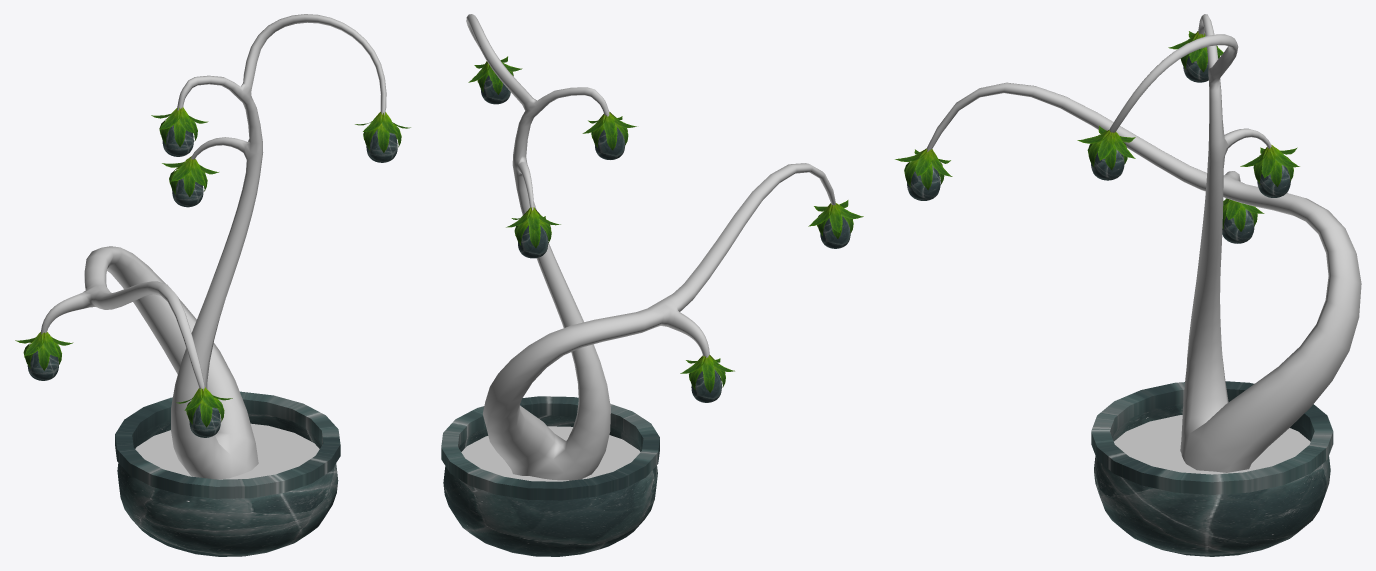
The model's file is plant.fbx.
The picture shows the model from 3 angles, left to right: view 1: azimuth 30°, elevation 25°; view 2: azimuth 150°, elevation 25°; view 3: azimuth 270°, elevation 25°; orthographic projection. The views are drawn at different scales.
Parts seen in each view (by area): view 1: trunk, pot, dirt, egg2, egg5, egg1, egg4, egg3; view 2: trunk, pot, dirt, egg3, egg1, egg2, egg4; view 3: trunk, pot, dirt, egg2, egg1, egg3, egg5.
Part boxes in pixels (x1,y1,x2,y2): trunk: [41, 14, 386, 479]; pot: [115, 391, 340, 556]; dirt: [135, 423, 319, 479]; egg2: [189, 403, 220, 437]; egg5: [366, 129, 397, 162]; egg1: [27, 350, 58, 380]; egg4: [162, 125, 193, 156]; egg3: [172, 178, 203, 207]; trunk: [466, 14, 835, 480]; pot: [441, 396, 659, 556]; dirt: [461, 426, 640, 481]; egg3: [518, 225, 548, 258]; egg1: [691, 369, 721, 402]; egg2: [820, 215, 850, 248]; egg4: [594, 126, 625, 159]; trunk: [926, 14, 1361, 472]; pot: [1091, 381, 1333, 556]; dirt: [1114, 415, 1310, 474]; egg2: [907, 165, 940, 200]; egg1: [1222, 209, 1254, 243]; egg3: [1257, 165, 1290, 197]; egg5: [1091, 149, 1124, 180].
Size of the model in its own units: 9.36 by 13.79 by 10.79.
